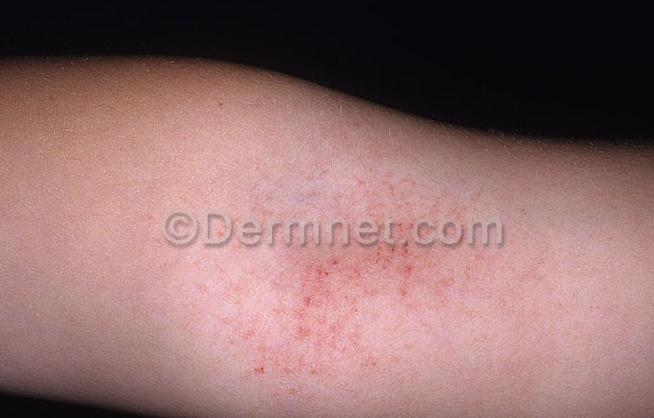eritema 1: (255, 201, 465, 390)
exudacion 1: (293, 219, 427, 344)
